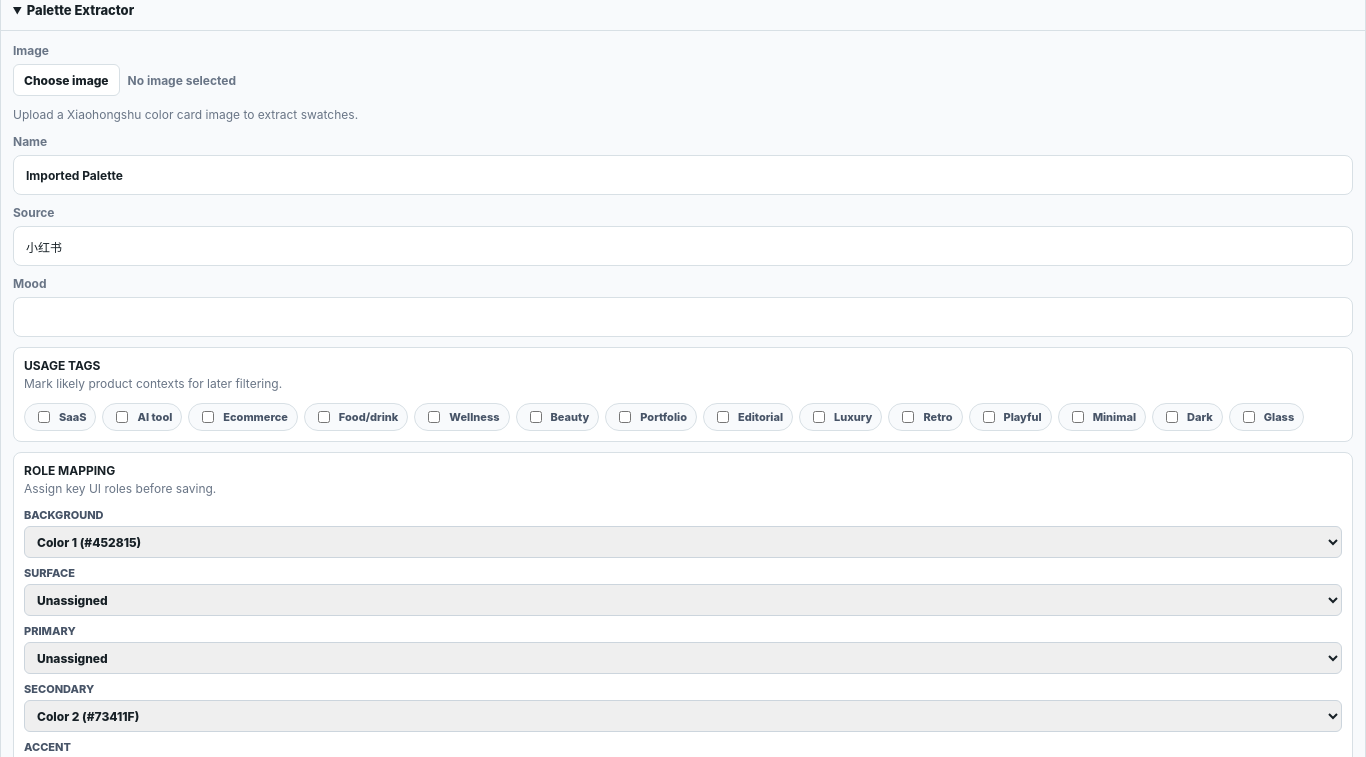
it: PaletteExtractor › lets extracted colors be edited before exporting markdown
Replace the text in the field named "Palette name" with "Coffee Foam" at (683, 175), box [13,155,1353,195]
(page scrolled)
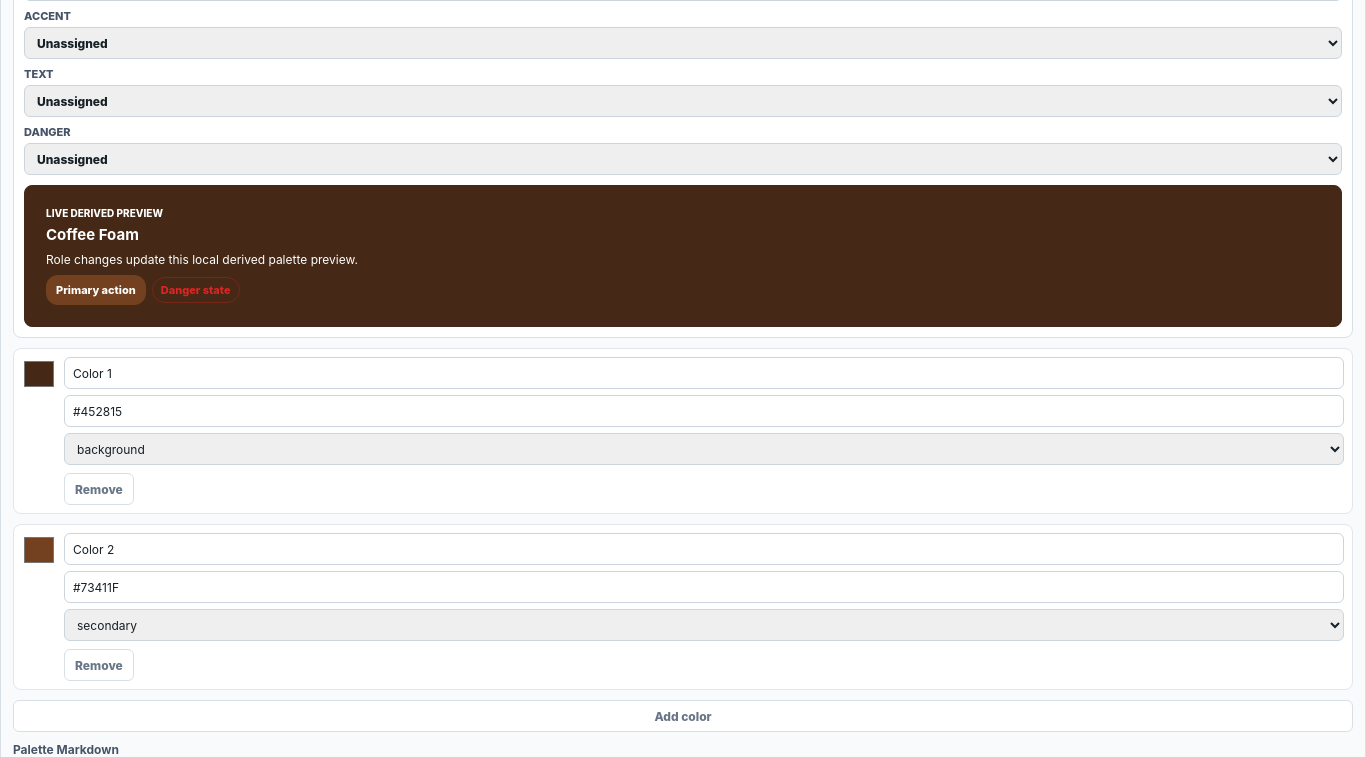
Replace the text in the field named "Name for color 1" with "Coffee" at (704, 373), box [64,357,1344,389]
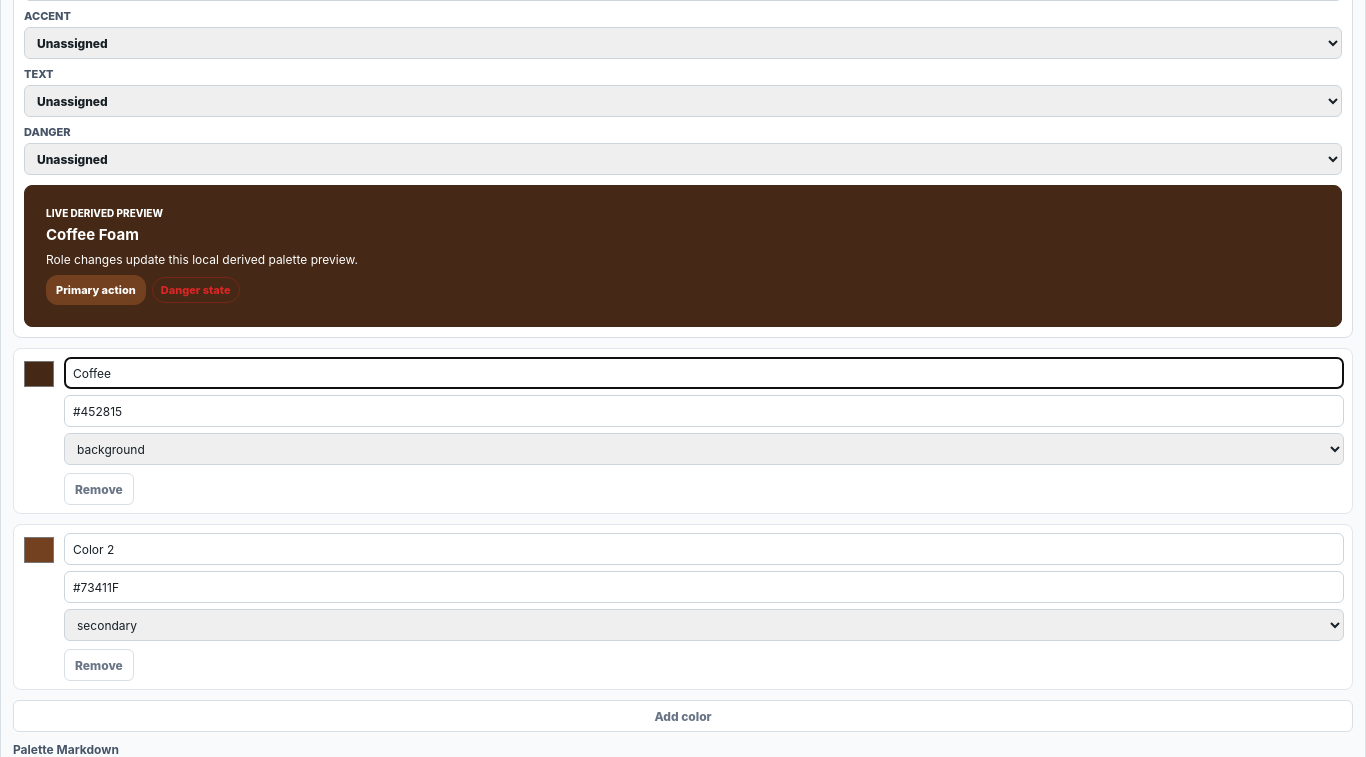
Replace the text in the field named "Hex for color 2" with "#B6885D" at (704, 587), box [64,571,1344,603]
(page scrolled)
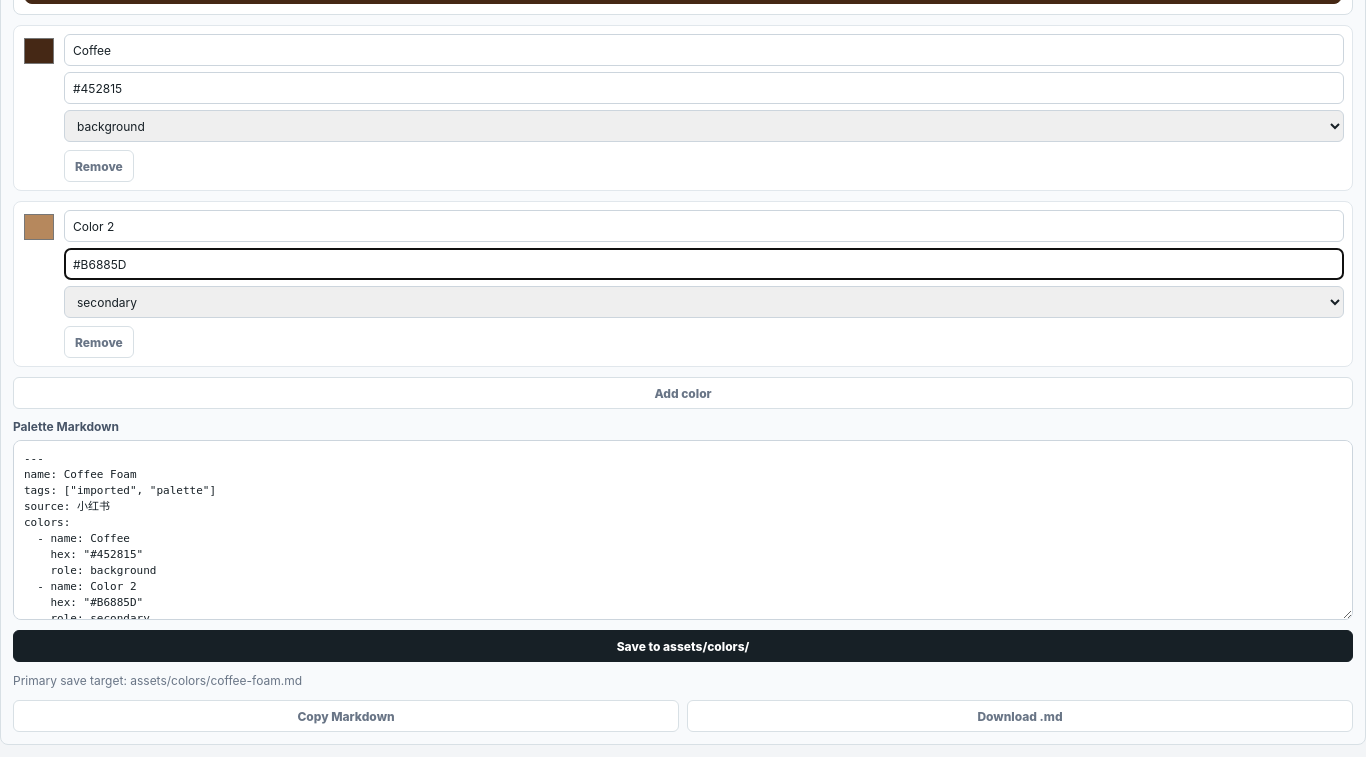
Expected: the button "Save to assets/colors/" is shown, [13,630,1353,662]
Result: the text box showing "hex: \"#B6885D\"" is shown at [13,440,1353,620]
